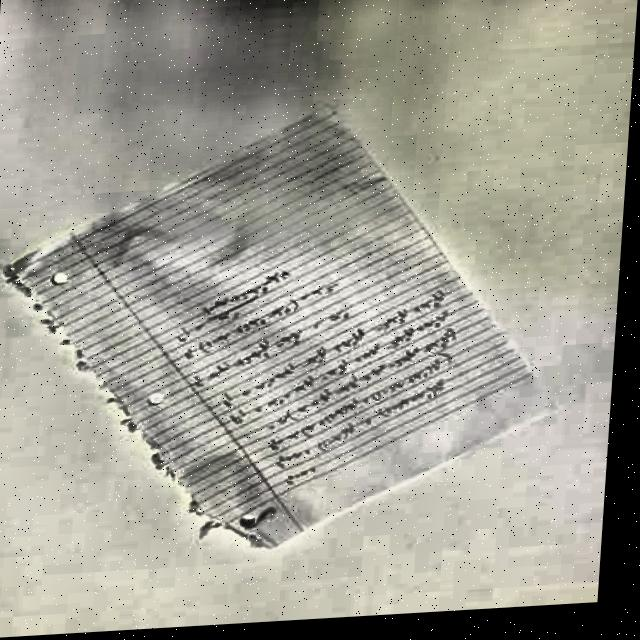paper: (0, 97, 577, 565)
